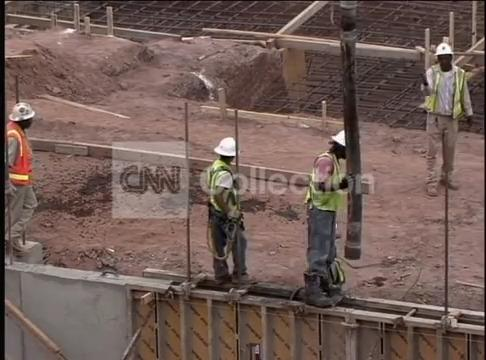Gloves: (227, 204, 246, 223), (343, 170, 354, 190)
Helmet: (211, 136, 240, 158), (8, 102, 35, 121), (330, 129, 345, 147), (434, 42, 453, 56)
Person: (417, 42, 473, 196), (199, 136, 256, 284), (302, 129, 349, 307), (3, 100, 43, 257)
Safety Boot: (307, 284, 331, 309), (229, 270, 259, 284), (9, 239, 31, 256), (441, 177, 463, 190), (426, 184, 438, 197)
Safety Vest: (312, 159, 340, 211), (2, 126, 30, 177), (208, 165, 235, 215)
bare-arms: (418, 70, 430, 89), (464, 114, 478, 128)
